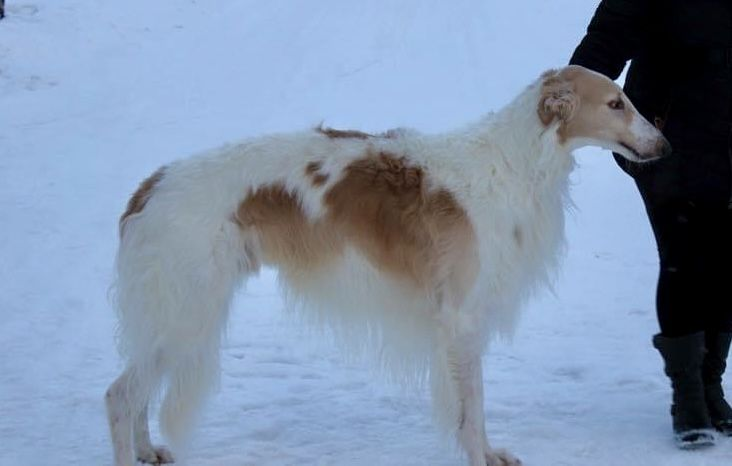borzoi: (90, 63, 702, 462)
